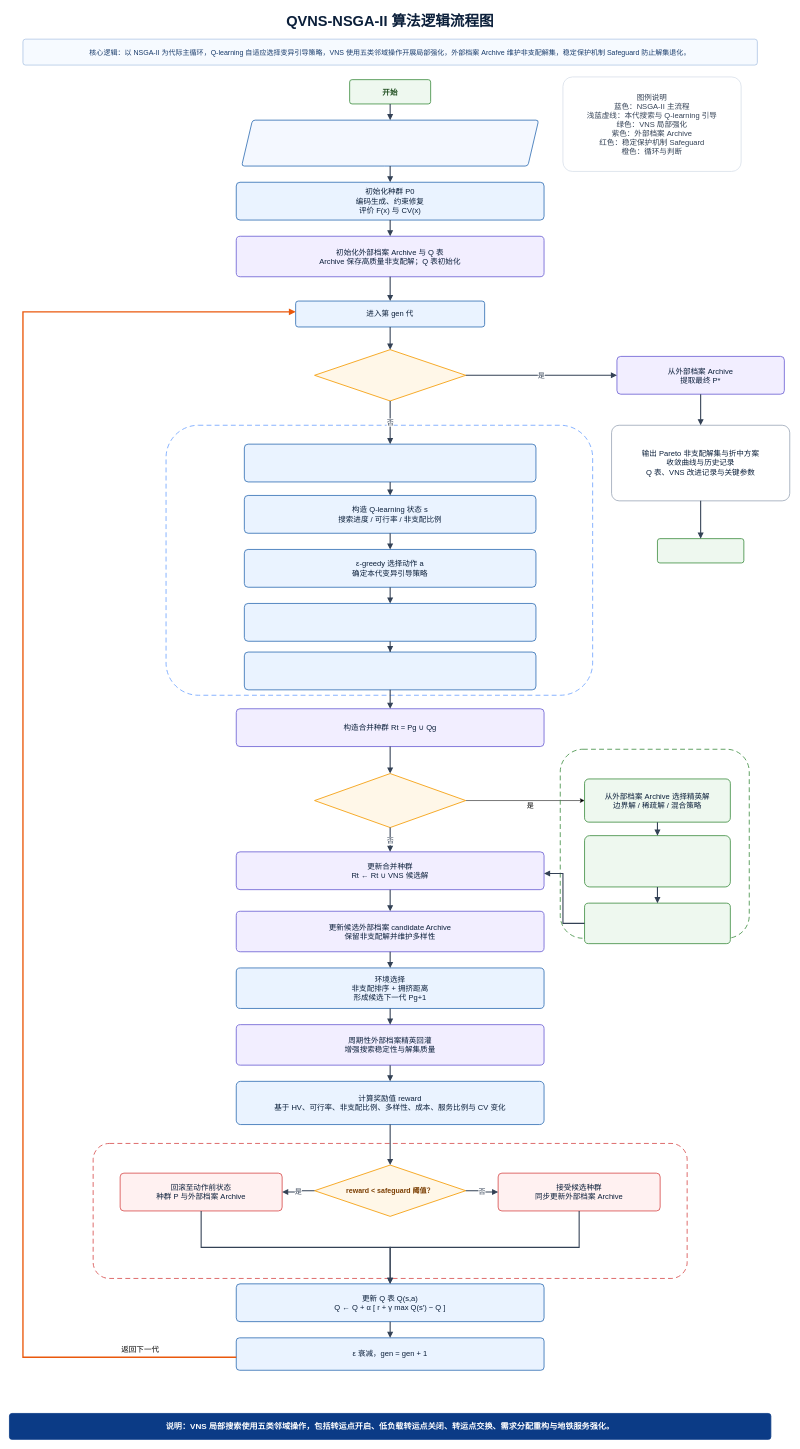
Some shapes in this 800 by 1449 pixel diagram are drawn without their labels. The box of each missing label's shape, as (x1, y1, x2, y2) in pixels:
Q 动作引导部分子代变异 评价子代 Qg：计算 F(x) 与 CV(x): (244, 651, 536, 690)
VNS 局部强化模块 使用五类邻域操作: (560, 749, 749, 938)
执行五类邻域操作 N1 开启 / N2 关闭 / N3 交换 N4 重分配 / N5 服务强化: (584, 835, 731, 887)
是否触发 VNS？ 基于停滞状态 / 触发间隔 / 最小代距: (314, 773, 466, 828)
是否达到 最大迭代代数？: (314, 349, 466, 401)
本代搜索与 Q-learning 引导模块: (165, 425, 593, 695)
稳定保护机制 Safeguard: (93, 1143, 687, 1279)
结束: (657, 538, 744, 563)
若候选解被接受则更新当前解 输出 VNS 候选解: (584, 903, 731, 944)
输入：模型数据与算法参数 节点 / 需求 / 距离 / 容量 / 成本 pop_size, max_gen, pc, α, γ, ε, VNS 参数: (241, 120, 539, 166)
锦标赛选择与交叉 生成基础子代: (244, 603, 536, 641)
非支配排序与拥挤距离计算 确定 rank 与 crowding: (244, 444, 536, 482)
